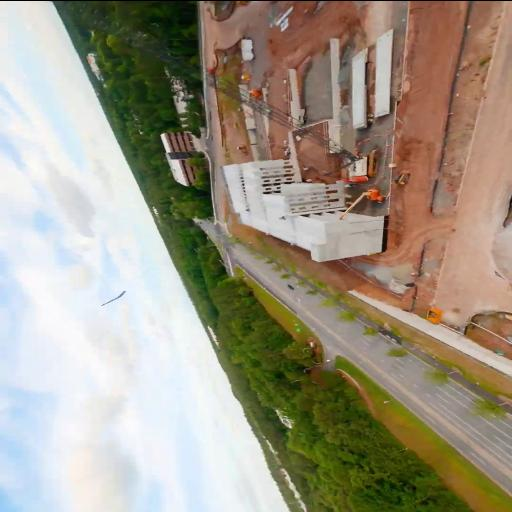uav: (94, 287, 132, 307)
